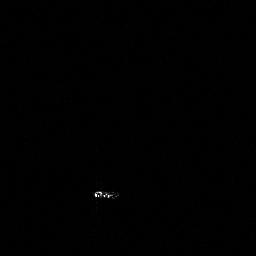ship: (91, 189, 121, 201)
